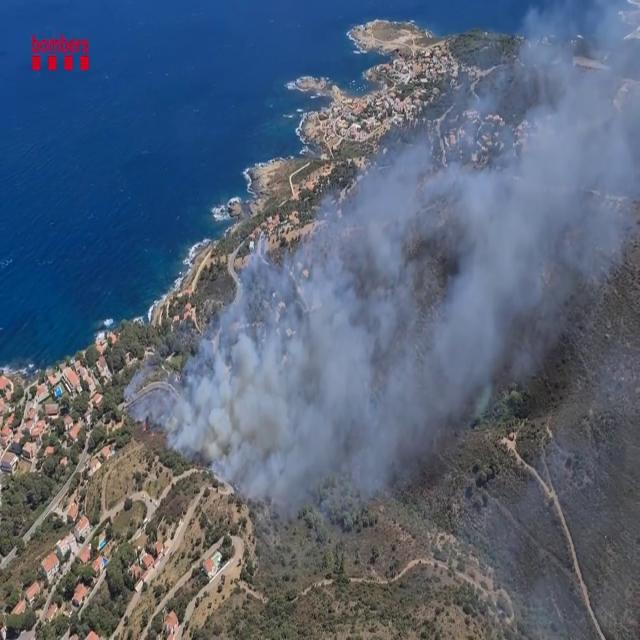Smoke: (171, 17, 640, 530)
